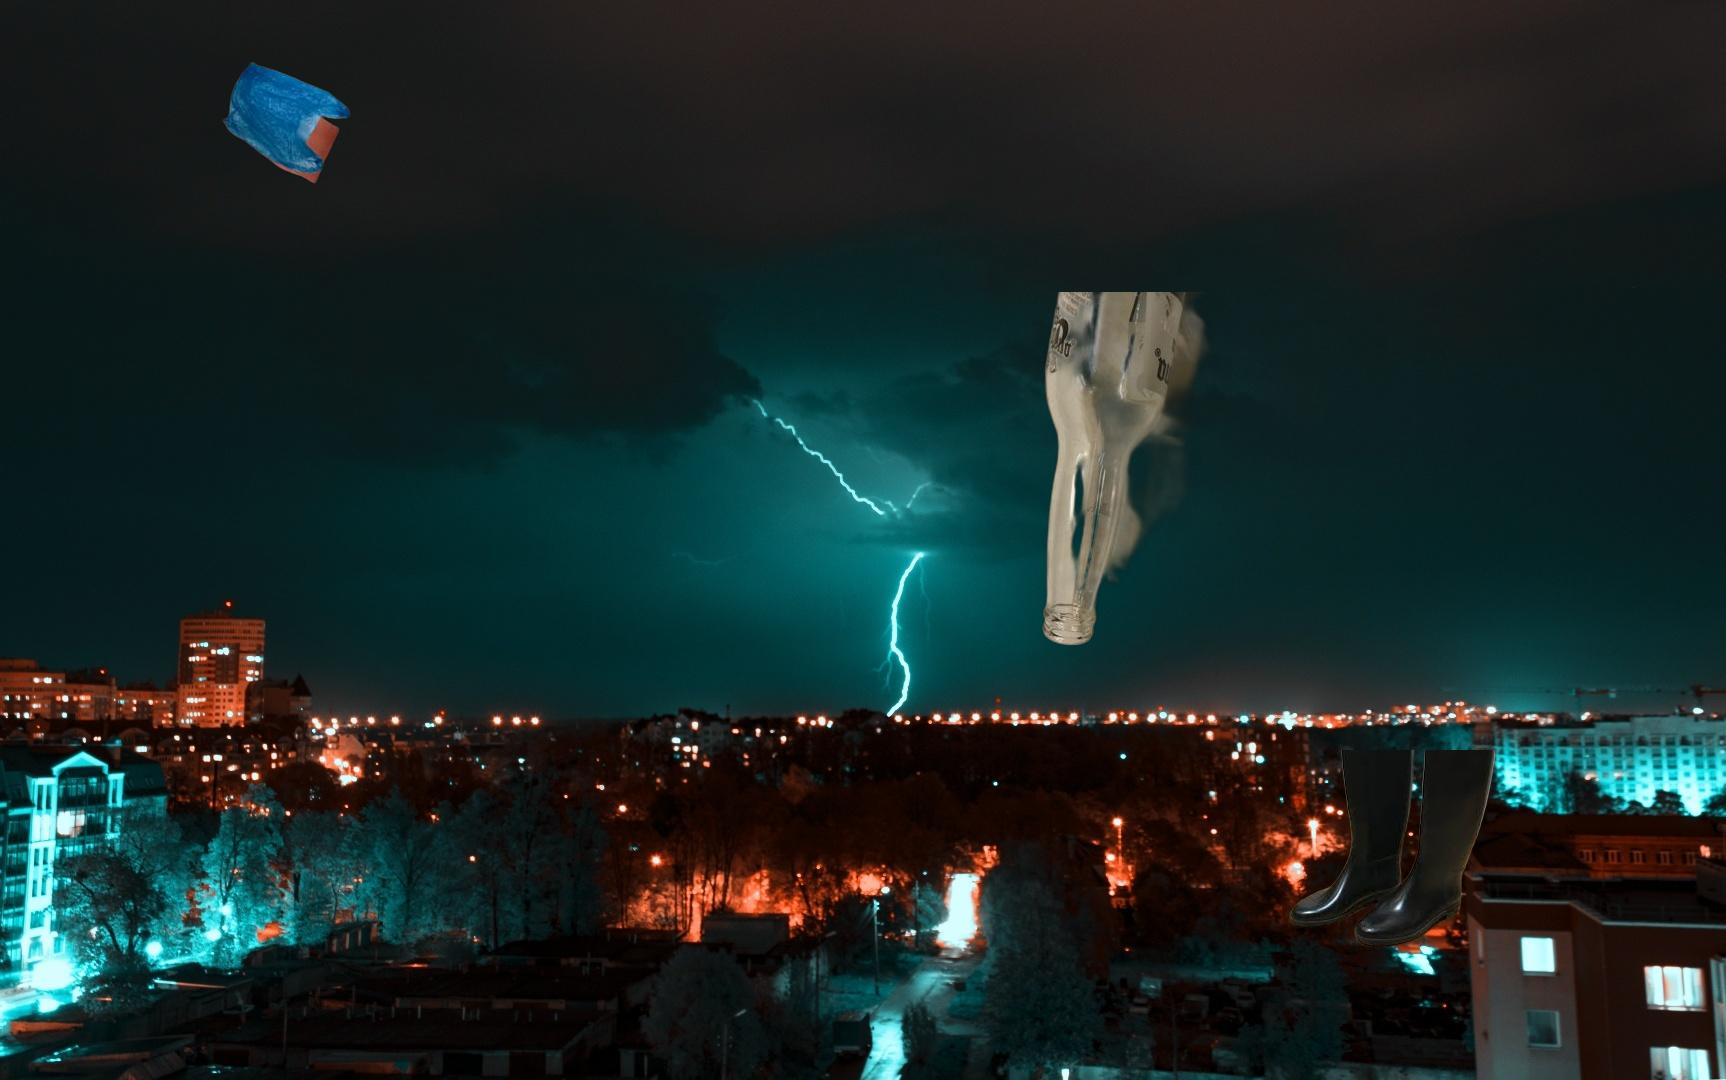glass: (1038, 292, 1384, 649)
plastic-bag: (220, 58, 353, 187)
shoes: (1285, 750, 1500, 951)
